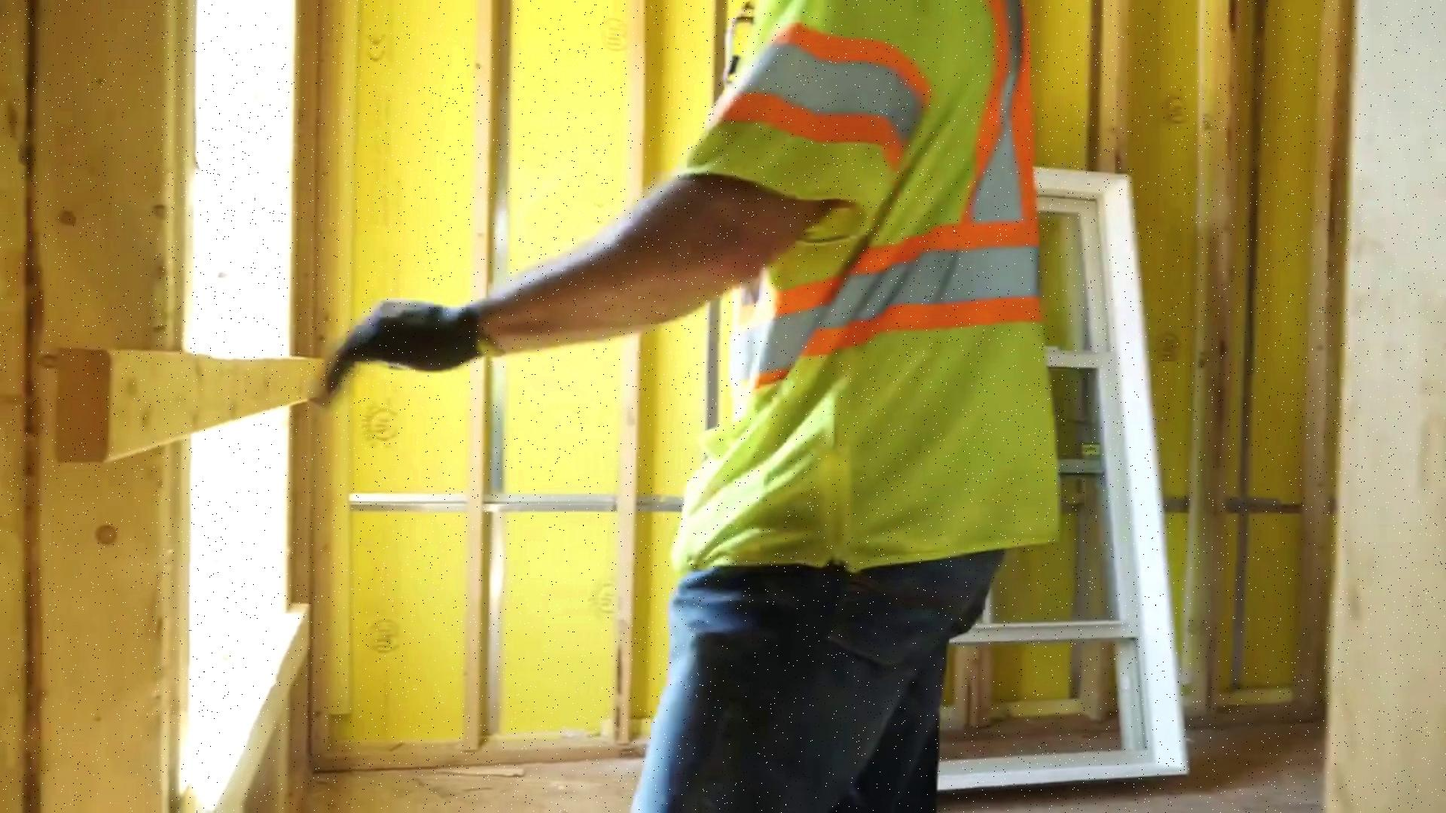Vest: (659, 0, 1028, 569)
